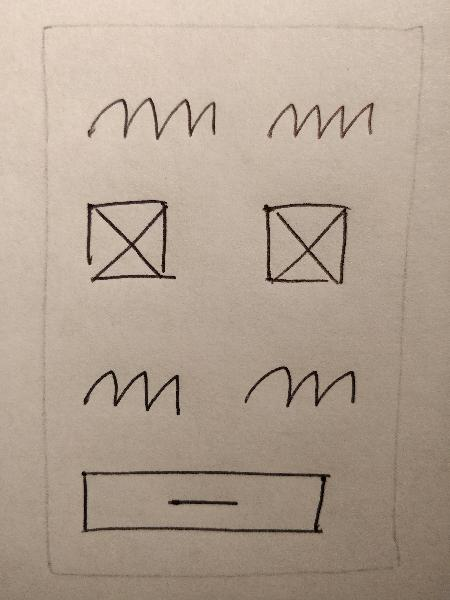button: (73, 463, 331, 539)
image: (253, 195, 354, 293), (78, 194, 183, 286)
text: (79, 88, 221, 153), (232, 352, 362, 419), (74, 356, 188, 424), (257, 95, 379, 152)
